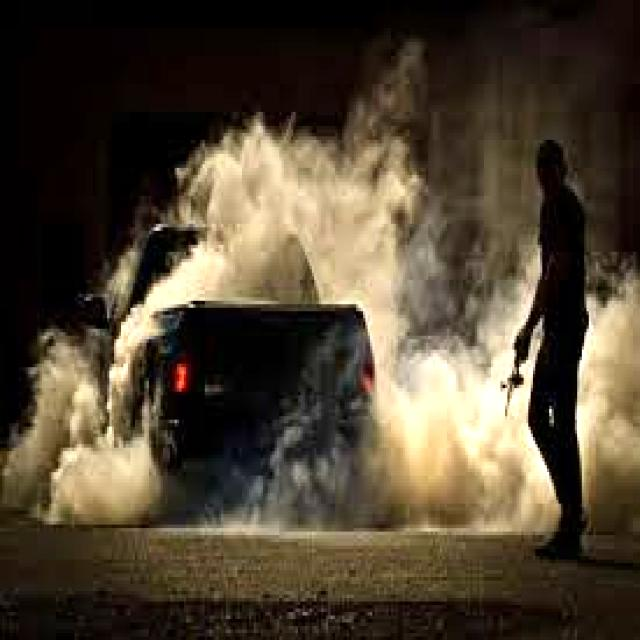Smoke: (33, 152, 638, 524)
